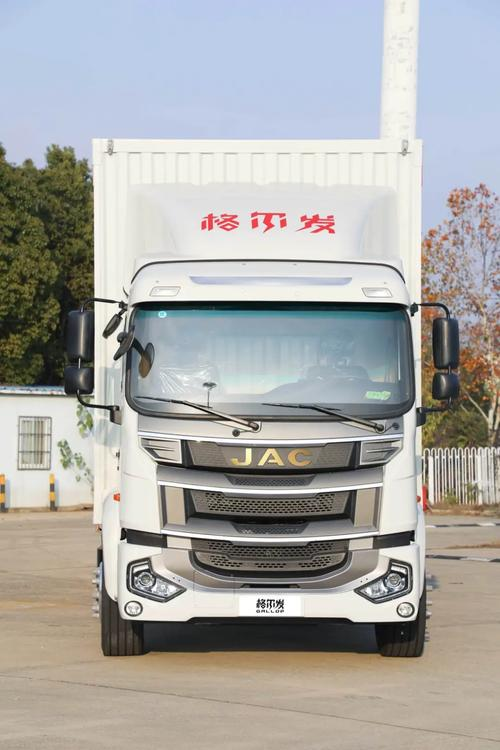卡车: (56, 120, 473, 671)
